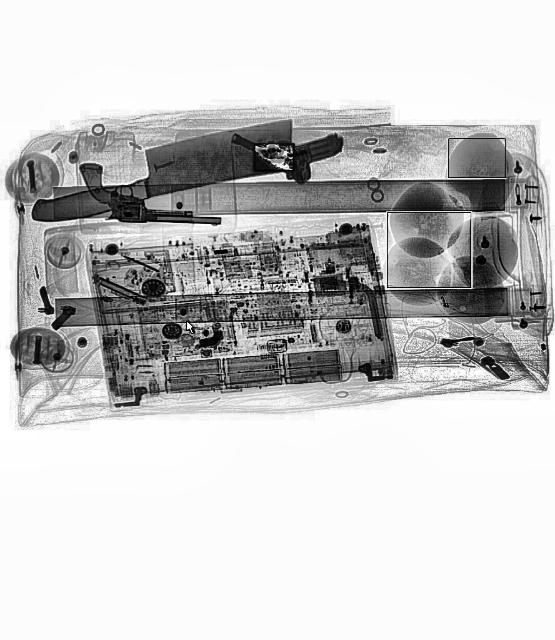Gun: (227, 89, 344, 193), (76, 161, 222, 227)
Knife: (24, 116, 302, 228)
